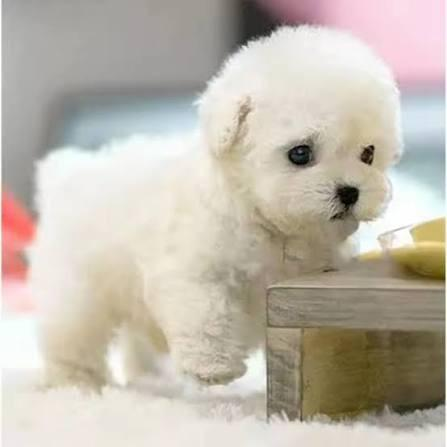puppy-dog: (26, 24, 404, 398)
